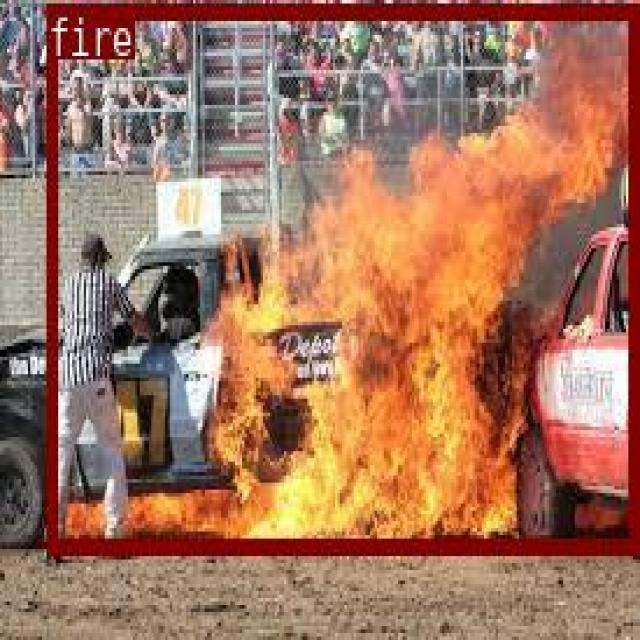fire: (45, 2, 636, 549)
